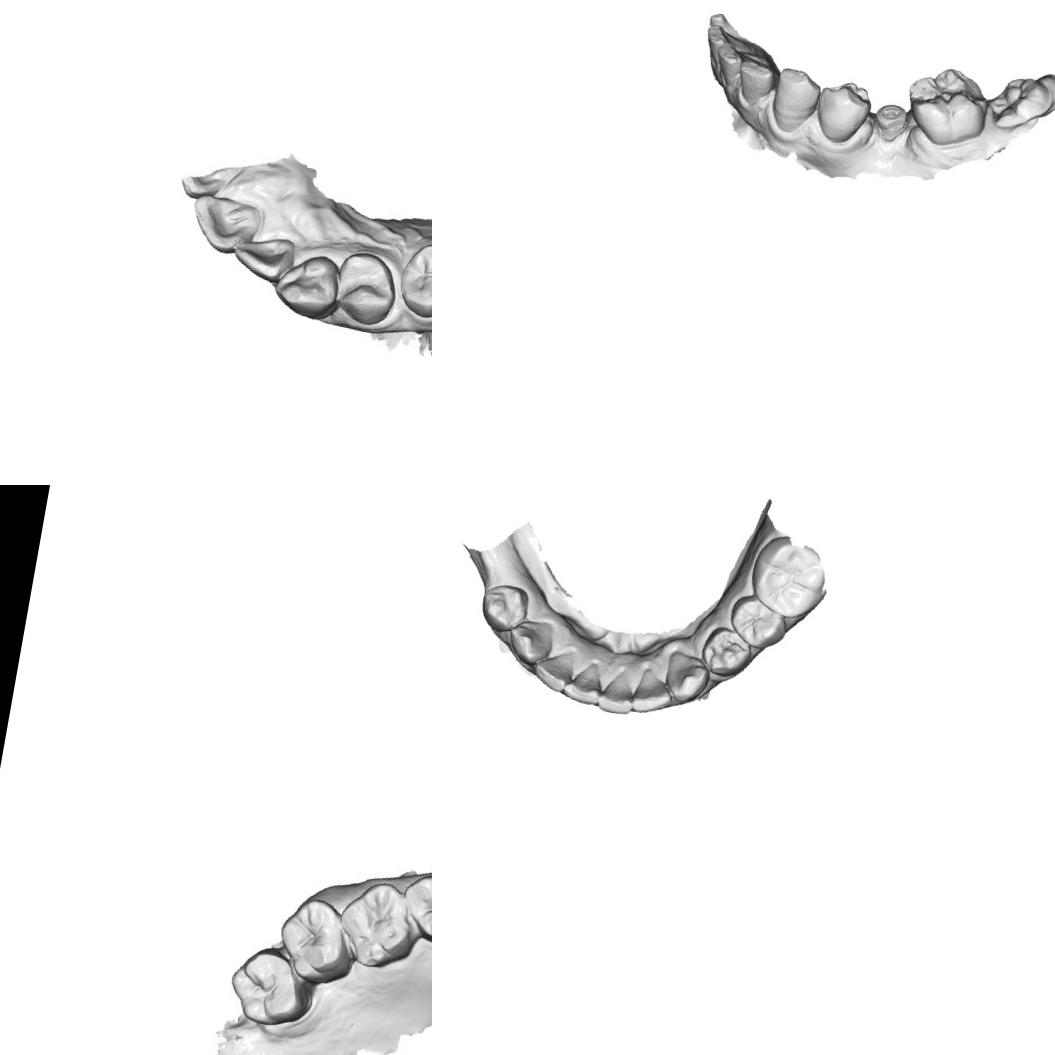canine: (269, 246, 342, 322), (763, 62, 826, 140), (660, 649, 713, 706), (502, 615, 556, 669)
implant_minus: (866, 94, 912, 148)
incisor: (187, 189, 265, 257), (232, 230, 296, 285), (628, 665, 677, 718), (732, 54, 778, 110), (710, 41, 750, 102), (530, 643, 576, 694), (703, 23, 759, 62), (594, 668, 638, 717), (560, 657, 604, 706)
molar: (329, 870, 423, 979), (898, 58, 996, 154), (221, 942, 315, 1038), (744, 530, 834, 624), (271, 892, 358, 988)
premolar: (331, 250, 401, 330), (810, 75, 875, 149), (724, 592, 790, 652), (697, 623, 754, 680), (395, 237, 432, 321), (476, 580, 531, 636), (401, 870, 432, 944)
